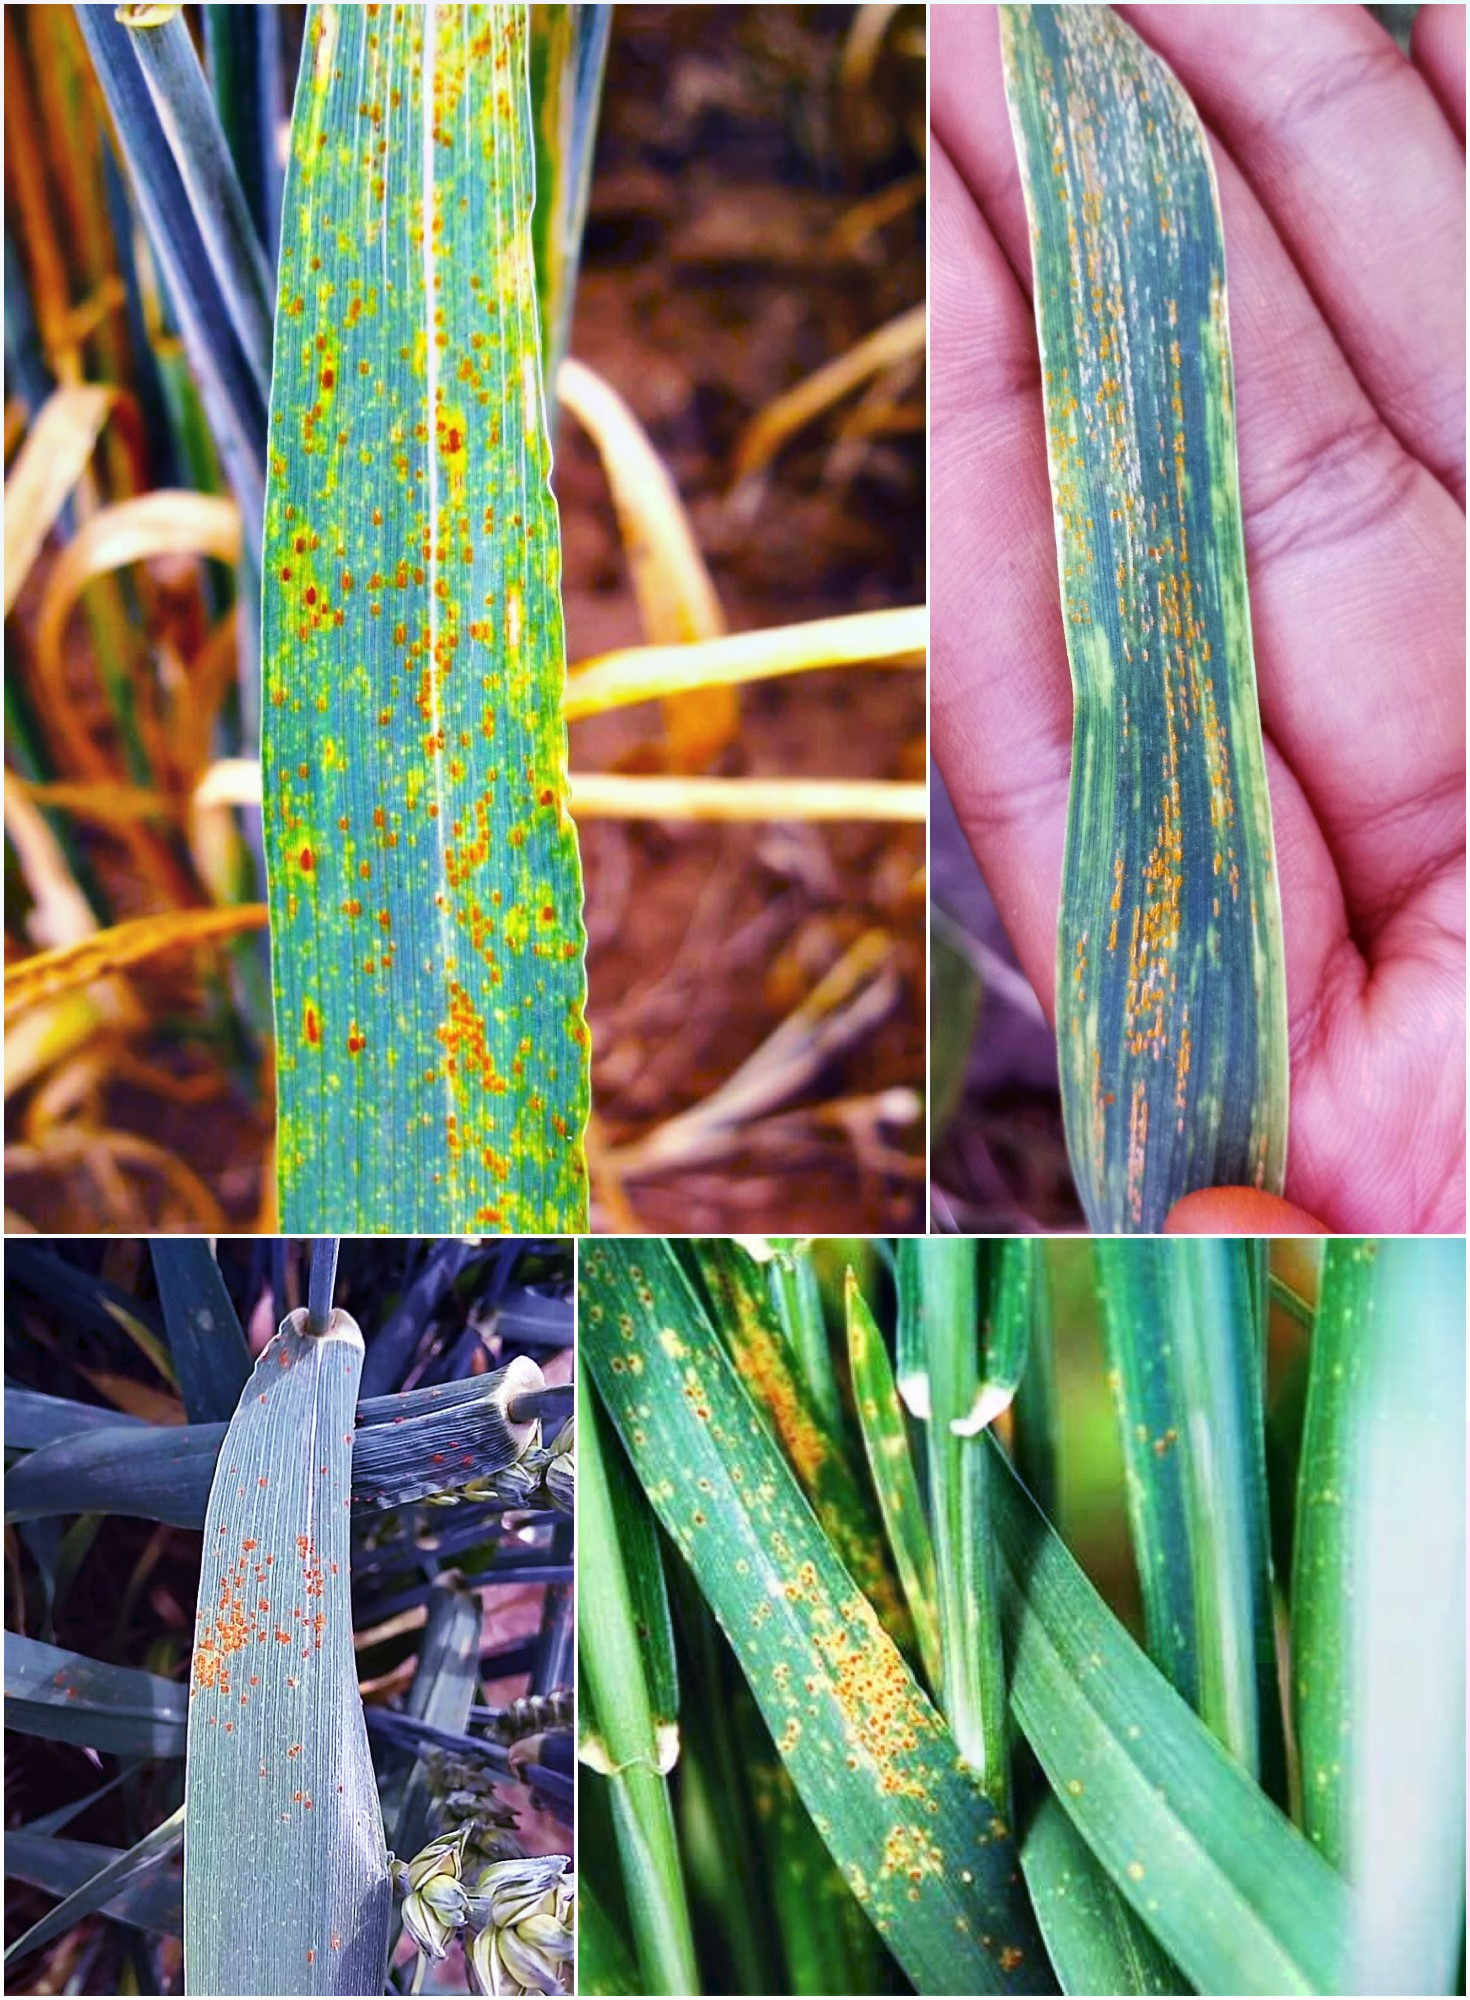Leaf Rust: (230, 45, 618, 1238), (1024, 39, 1312, 1171), (650, 1373, 969, 1832), (155, 1460, 399, 1776)
